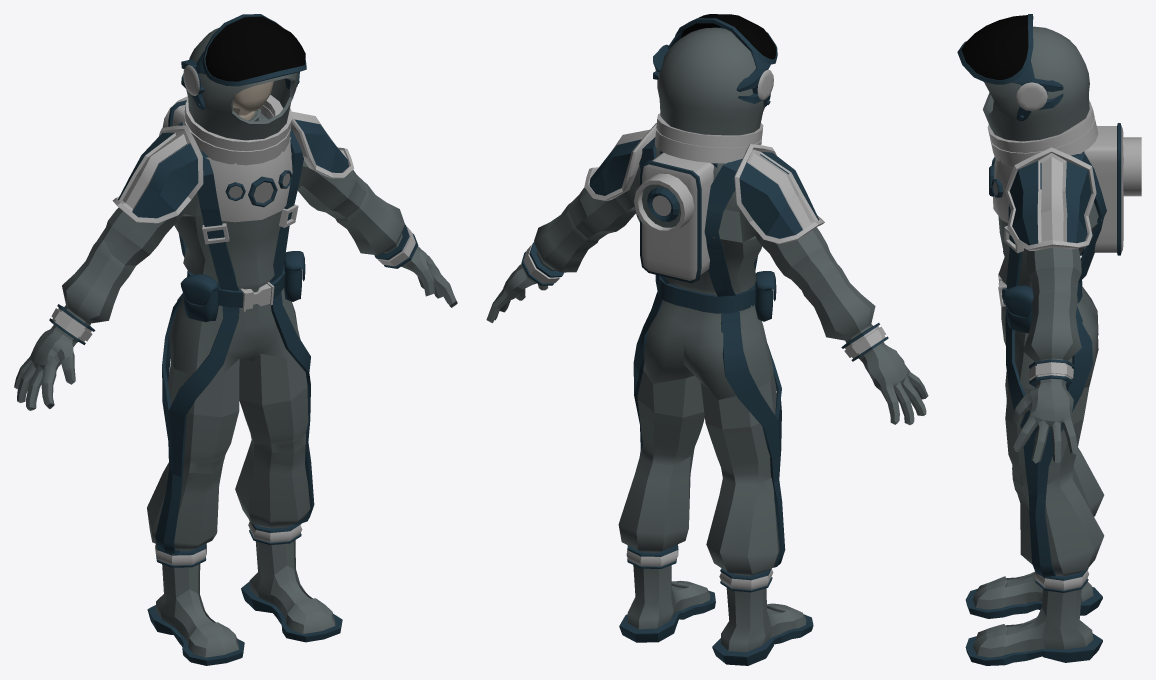
The model's file is TempAstroFullModel.fbx.
3 views of the same model, side by side, from view 1: azimuth 30°, elevation 25°; view 2: azimuth 150°, elevation 25°; view 3: azimuth 270°, elevation 25° (orthographic).
Visible parts, largest first — view 1: MainBody1, BodyStrap, ShoulderPad, polySurface8, MainHelmet, ChestPlate, Pouch, CollarBottom, CollarTop, polySurface9, Belt, StrapBuckle; view 2: MainBody1, MainHelmet, ShoulderPad, BodyStrap, BackpackMain, Belt, CollarBottom, polySurface16, polySurface8, polySurface15, CollarTop, Pouch (+1 smaller); view 3: MainBody1, ShoulderPad, MainHelmet, BodyStrap, BackpackMain, polySurface8, CollarTop, CollarBottom, Pouch, polySurface16, polySurface9, polySurface28 (+2 smaller).
Boxes of the visible parts, left/top/right/bottom form: MainBody1: left=14, top=81, right=457, bottom=665; BodyStrap: left=155, top=122, right=314, bottom=553; ShoulderPad: left=112, top=111, right=354, bottom=223; polySurface8: left=205, top=16, right=305, bottom=81; MainHelmet: left=186, top=27, right=298, bottom=140; ChestPlate: left=205, top=137, right=292, bottom=222; Pouch: left=180, top=251, right=305, bottom=322; CollarBottom: left=183, top=105, right=290, bottom=165; CollarTop: left=184, top=95, right=291, bottom=150; polySurface9: left=203, top=14, right=306, bottom=86; Belt: left=187, top=264, right=285, bottom=307; StrapBuckle: left=202, top=204, right=298, bottom=244; MainBody1: left=486, top=147, right=928, bottom=665; MainHelmet: left=657, top=27, right=764, bottom=135; ShoulderPad: left=584, top=123, right=824, bottom=243; BodyStrap: left=633, top=137, right=785, bottom=567; BackpackMain: left=640, top=151, right=717, bottom=283; Belt: left=658, top=276, right=755, bottom=313; CollarBottom: left=654, top=128, right=761, bottom=163; polySurface16: left=634, top=173, right=694, bottom=234; polySurface8: left=679, top=14, right=776, bottom=59; polySurface15: left=641, top=184, right=681, bottom=227; CollarTop: left=656, top=113, right=763, bottom=145; Pouch: left=655, top=271, right=776, bottom=321; MainBody1: left=965, top=153, right=1104, bottom=665; ShoulderPad: left=1005, top=147, right=1096, bottom=250; MainHelmet: left=983, top=26, right=1089, bottom=141; BodyStrap: left=1005, top=154, right=1106, bottom=576; BackpackMain: left=1080, top=123, right=1123, bottom=255; polySurface8: left=961, top=15, right=1028, bottom=79; CollarTop: left=987, top=101, right=1094, bottom=151; CollarBottom: left=990, top=118, right=1098, bottom=166; Pouch: left=1003, top=251, right=1033, bottom=333; polySurface16: left=1123, top=137, right=1141, bottom=196; polySurface9: left=957, top=14, right=1033, bottom=84; polySurface28: left=1016, top=82, right=1047, bottom=111.
Bounding box in the file's own units: 7.2 × 9.82 × 2.68.
